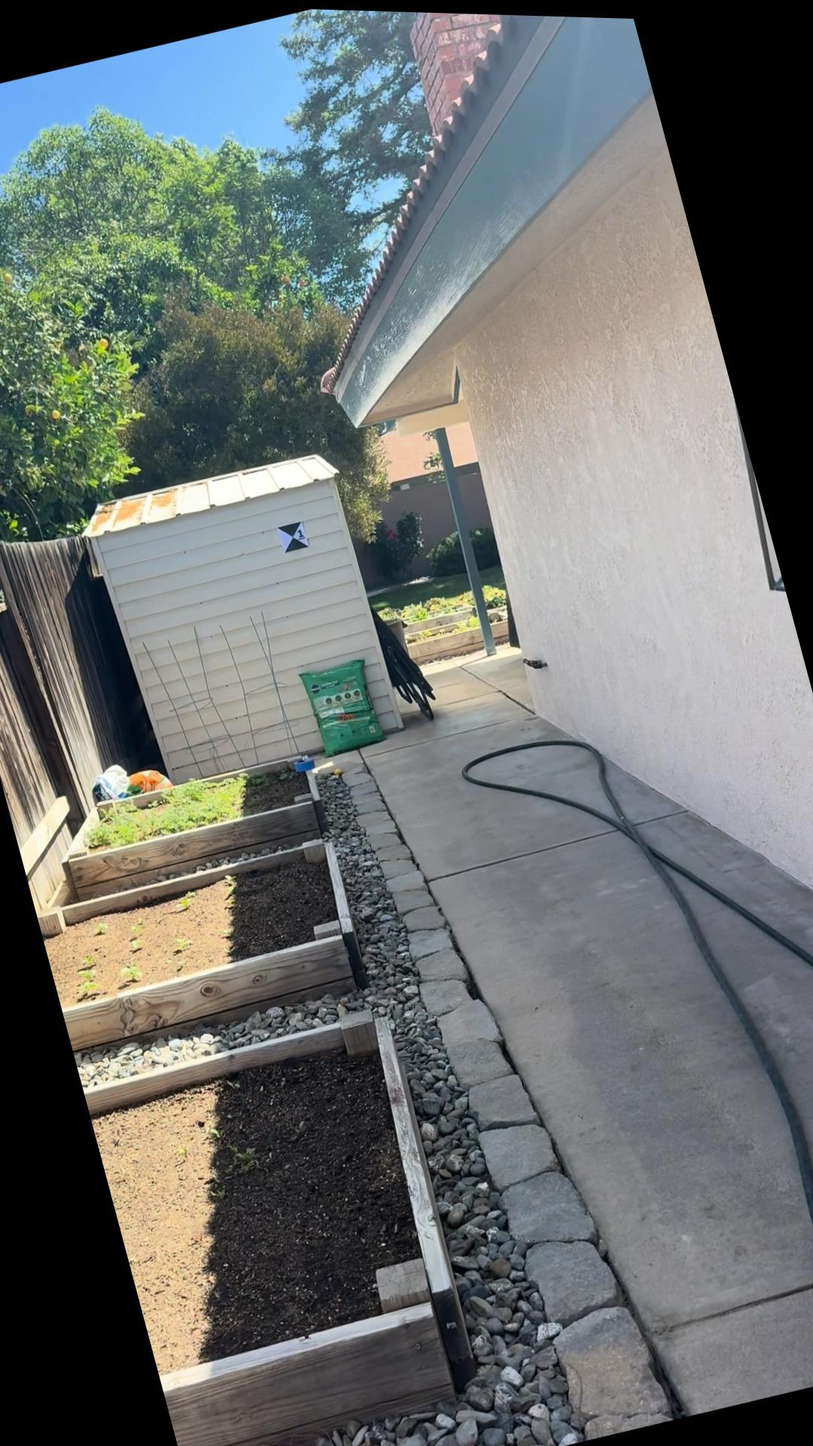target1: (276, 517, 311, 555)
